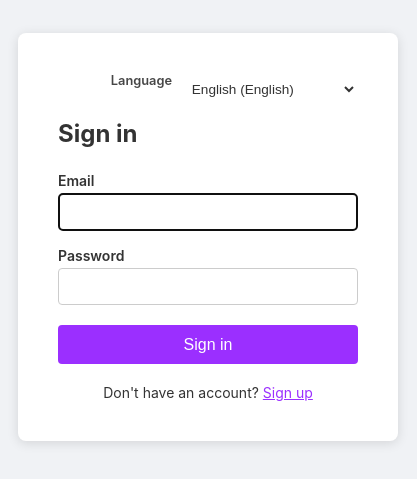
Scenario: LoginPage › shows error message on login failure
Type "test@example.com" into the field at coordinates (208, 212), box [58,193,358,231]
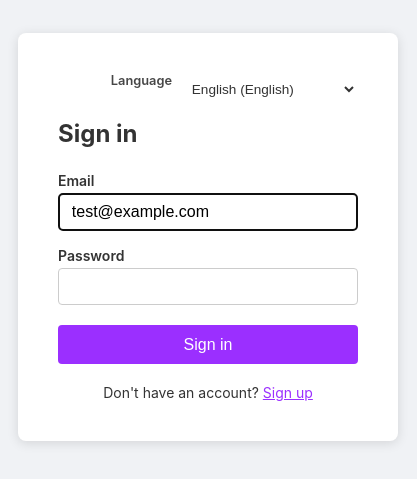
Type "wrong" into the password field at coordinates (208, 286), box [58,268,358,305]
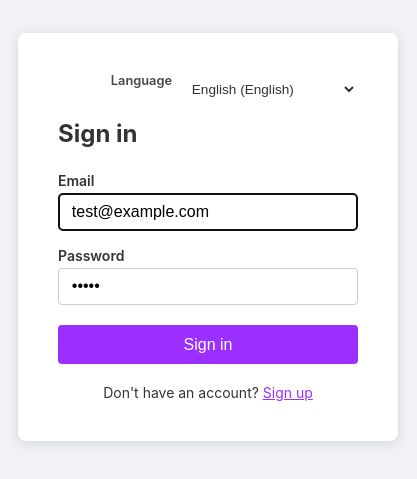
Click the button "Sign in" at coordinates (208, 345), box [58,325,358,364]
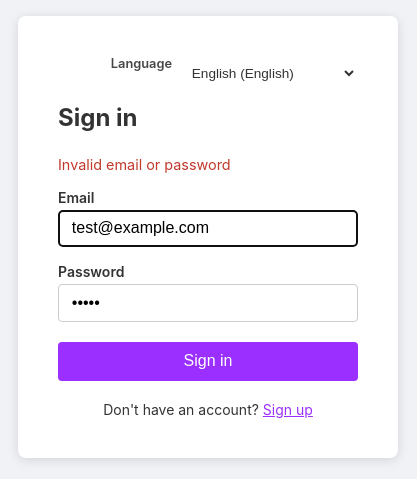
Result: the text "Invalid email or password" is shown at [58,156,231,173]
